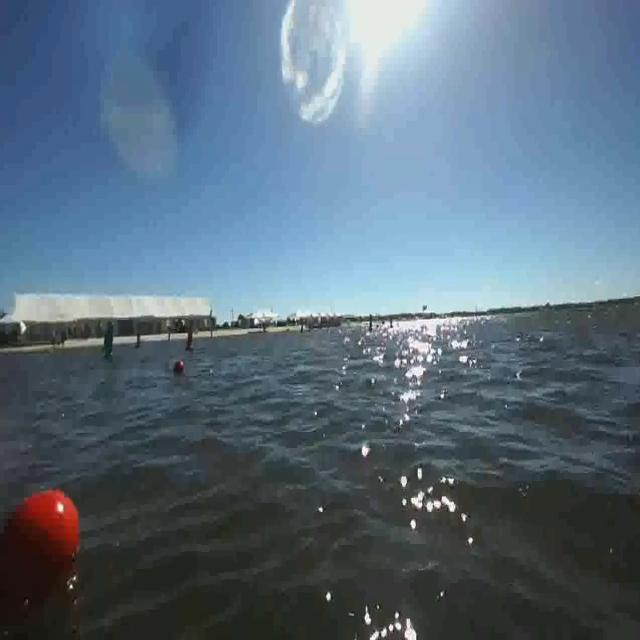green-column-buoy: (102, 321, 118, 362)
red-buoy: (1, 491, 77, 571)
red-column-buoy: (184, 325, 195, 354), (134, 328, 144, 351)
